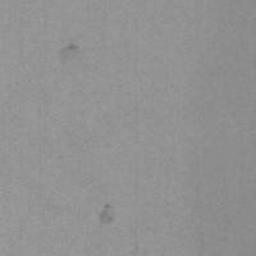Water spot: (97, 202, 116, 227), (60, 41, 79, 63)
